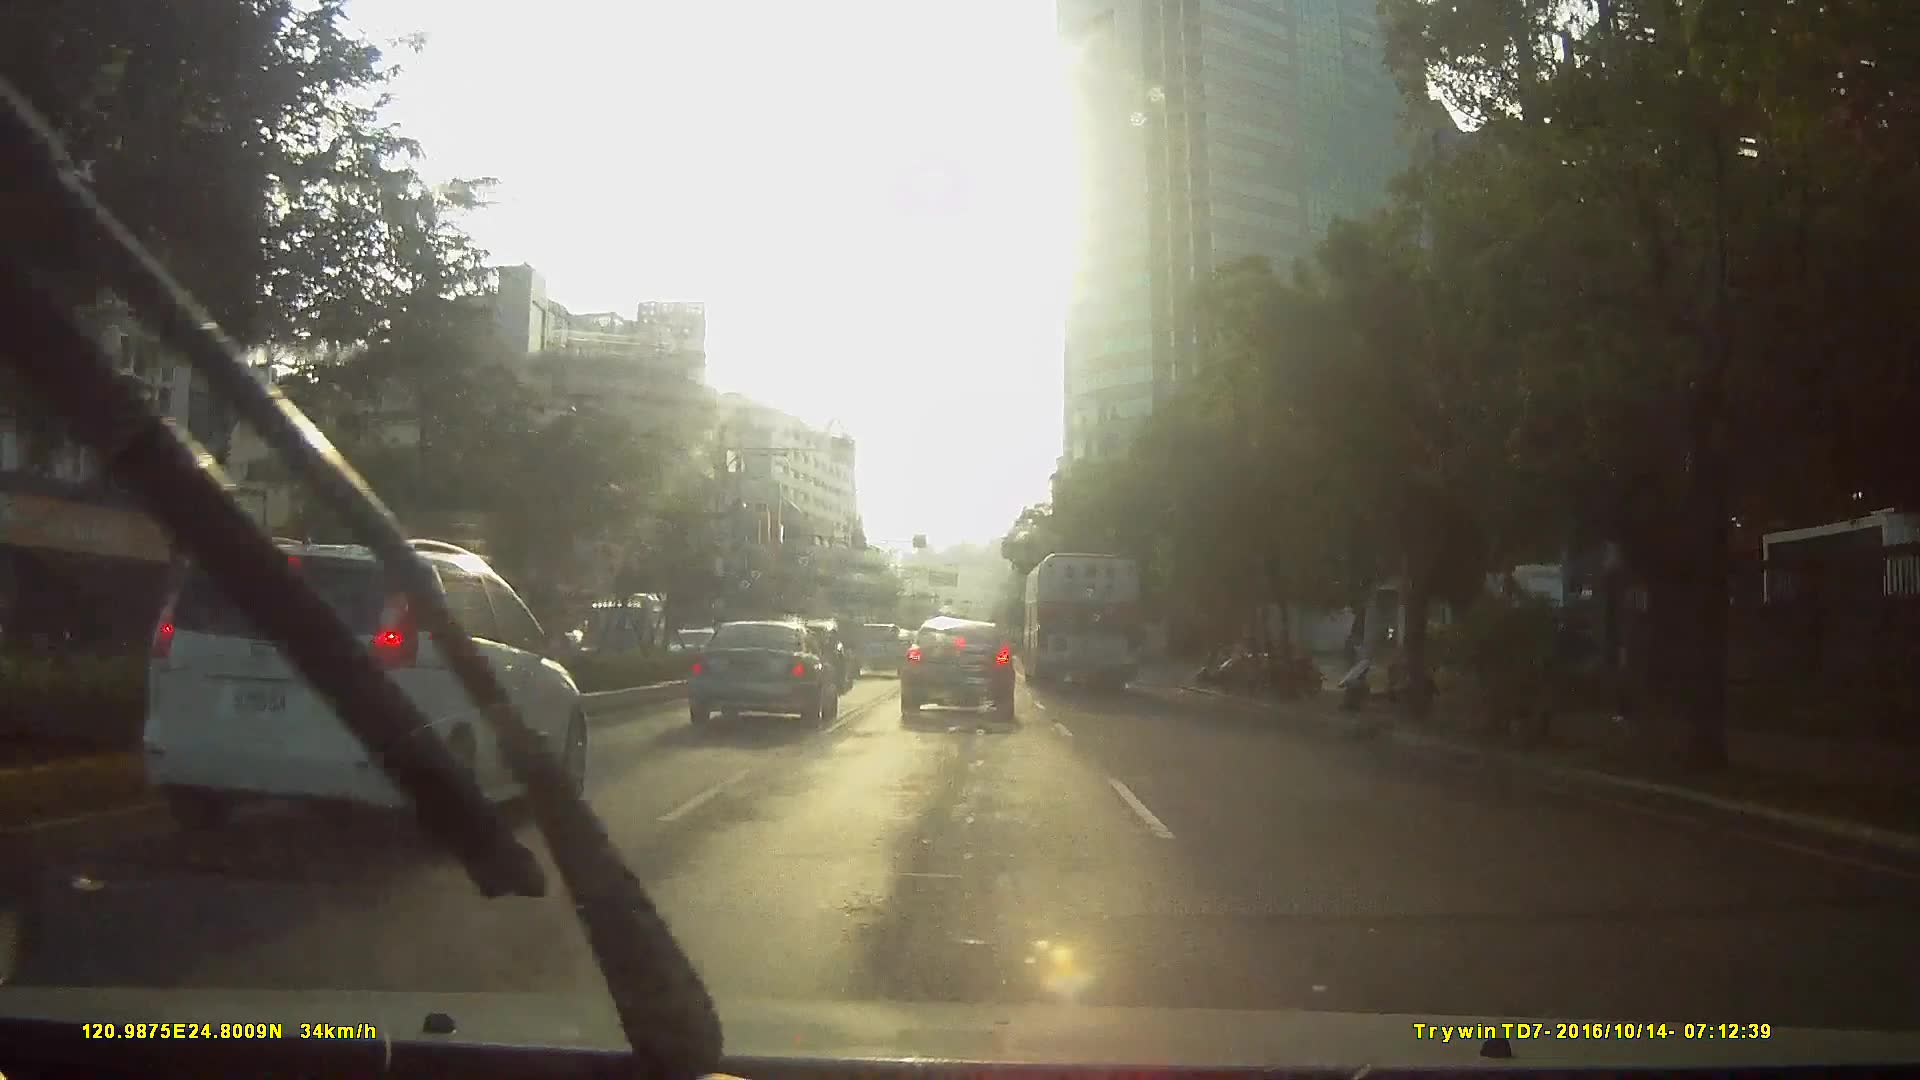vehicle: (123, 529, 595, 862), (251, 556, 684, 868), (1021, 541, 1143, 691), (676, 617, 836, 731), (897, 615, 1018, 724), (564, 588, 658, 669), (848, 620, 902, 673)
